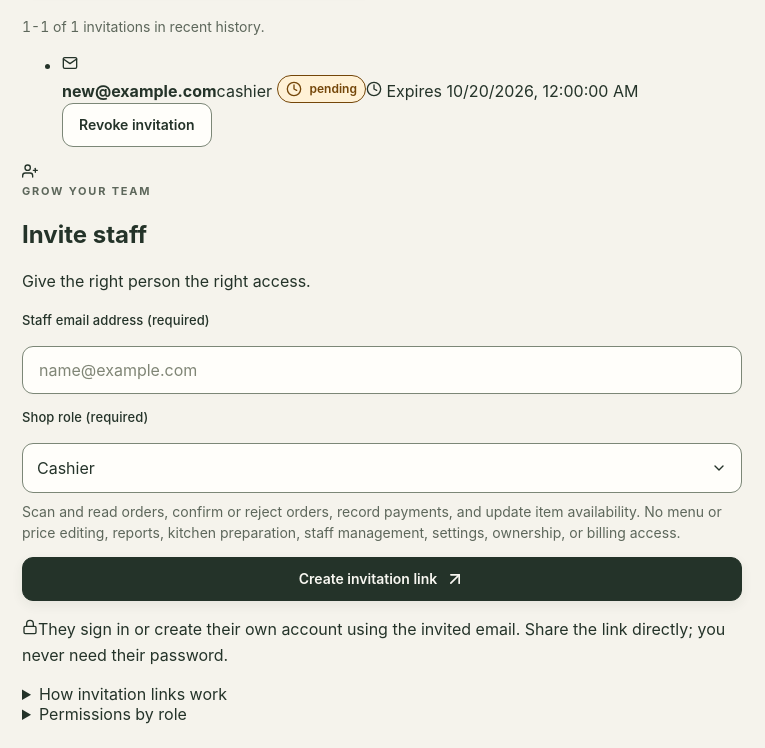
Test case: does not report invitation success while pending or after failure
(page scrolled)
Type "new@example.com" into the field labelled "Staff email address". click: (382, 370)
box: [22,346,742,394]
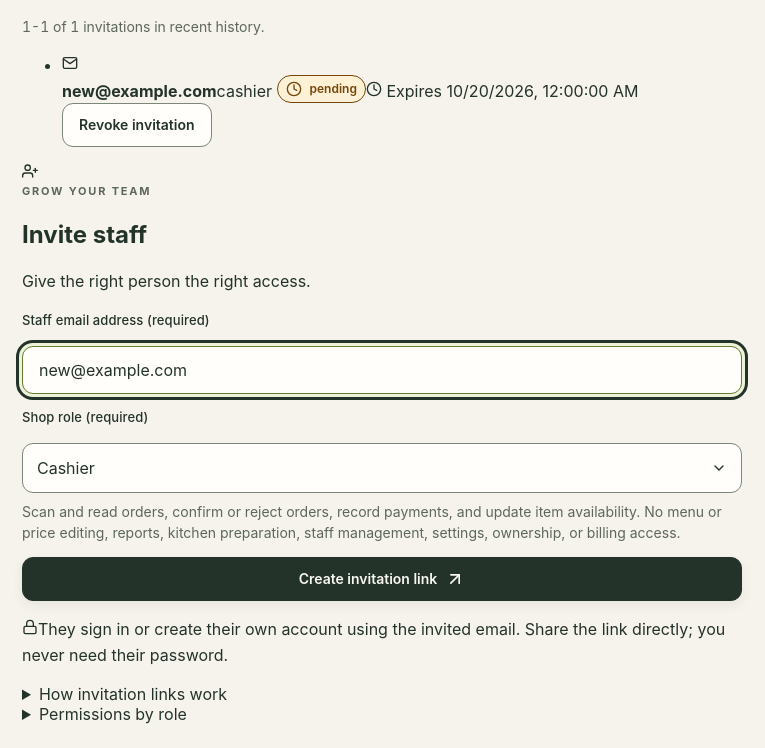
Click the button "Create invitation link". click: (382, 579)
box: [22,557,742,601]
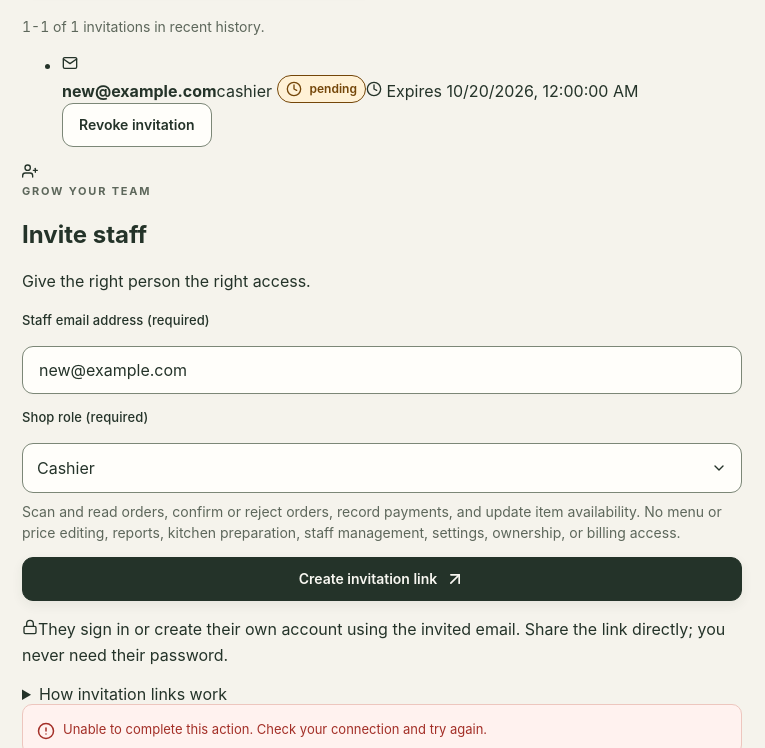
Expected: the text "Unable to complete this action" is shown, [63,721,487,737]
